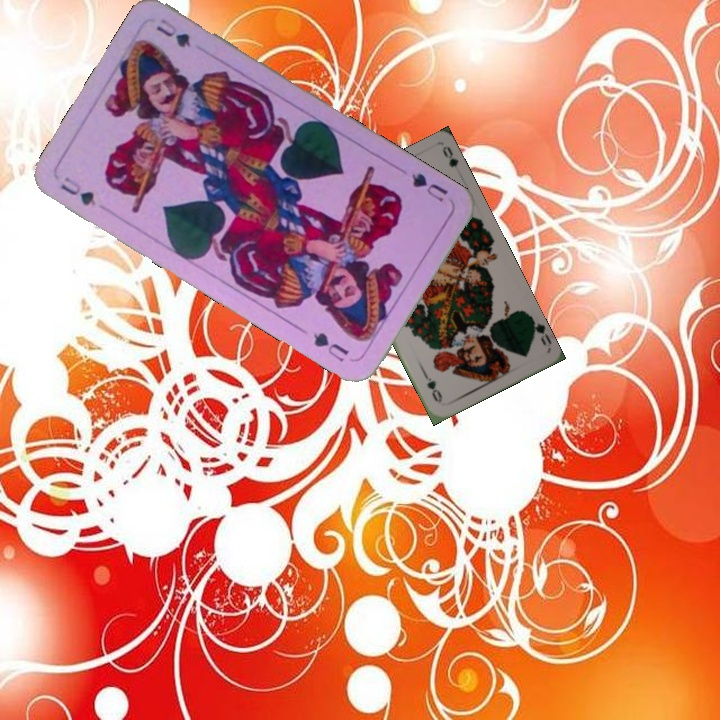GO: (526, 312, 553, 348)
GU: (407, 168, 451, 205), (56, 172, 99, 209)
